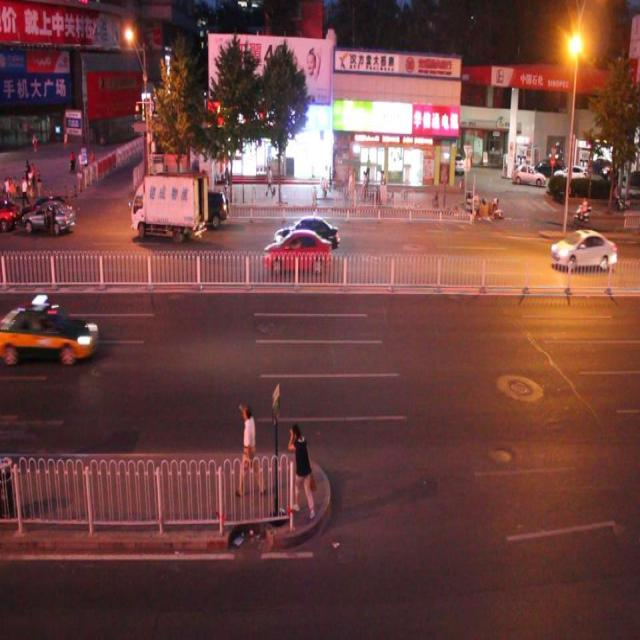bus: (131, 175, 207, 238)
car: (10, 296, 97, 364), (261, 226, 332, 274), (550, 227, 616, 272), (272, 211, 338, 255), (17, 197, 72, 238), (184, 186, 228, 230)
